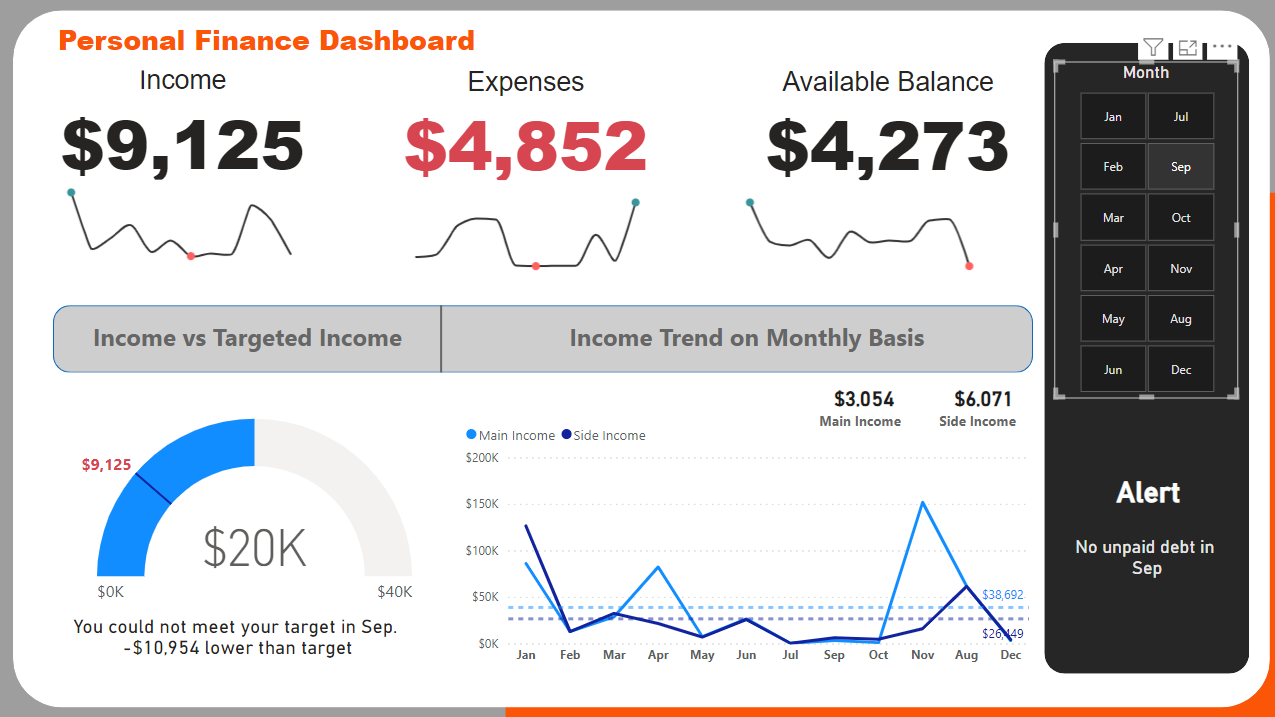

The page's visual inventory and layout, read from the dashboard file:
{"tool":"powerbi","page":{"name":"Page 1","canvas":[1280,720],"ordinal":0},"visuals":[{"type":"shape","box":[507.9,194.2,772.1,526],"z":0},{"type":"shape","box":[14.5,10.9,1257.1,697.3],"z":1000},{"type":"card","title":"Expenses","fields":{"Values":["All measures.Total Expenses"]},"box":[400.5,67.6,255.8,118.2],"z":2000},{"type":"card","title":"Available Balance","fields":{"Values":["All measures.Available Balance"]},"box":[733.5,67.6,312.5,118.2],"z":3000},{"type":"card","title":"Income","fields":{"Values":["All measures.Total Income"]},"box":[55.5,66.4,259.4,119.4],"z":4000},{"type":"PBI_CV_25997FEB_F466_44FA_B562_AC4063283C4C","fields":{"measure":["All measures.Total Income"],"axis":["Income Goal.Month"]},"box":[55.5,176.1,259.4,91.7],"z":5000},{"type":"shape","box":[1046,43.4,205.1,631],"z":6000},{"type":"textbox","box":[55,16.2,452.5,55],"z":7000},{"type":"PBI_CV_25997FEB_F466_44FA_B562_AC4063283C4C","fields":{"axis":["Income Goal.Month"],"measure":["All measures.Total Expenses"]},"box":[400.5,185.8,259.4,91.7],"z":8000},{"type":"PBI_CV_25997FEB_F466_44FA_B562_AC4063283C4C","fields":{"measure":["All measures.Available Balance"],"axis":["Income Goal.Month"]},"box":[733.5,185.8,259.4,91.7],"z":9000},{"type":"gauge","fields":{"Y":["Income Goal.Total Income Target"],"TargetValue":["All measures.Total Income"]},"box":[55.5,415,387.3,199.1],"z":10000},{"type":"slicer","title":"Month","fields":{"Values":["Income Goal.Month"]},"box":[1056.2,62.5,183.8,337.5],"z":11000},{"type":"card","fields":{"Values":["All measures.Guage Caption"]},"box":[36.2,600.8,406.6,73.6],"z":12000},{"type":"lineChart","fields":{"Y":["All measures.Main Income","All measures.Side Income"],"Category":["Income Goal.Month"]},"box":[462.1,415,573.1,259.4],"z":13000},{"type":"card","fields":{"Values":["All measures.Main Income"]},"box":[806.2,385,120,30],"z":14000},{"type":"card","fields":{"Values":["All measures.Side Income"]},"box":[926.5,384.9,119.4,30.2],"z":15000},{"type":"shape","box":[55,306.2,980,67.5],"z":16000},{"type":"textbox","box":[816.2,407.5,100,32.5],"z":17000},{"type":"textbox","box":[936.2,407.5,100,32.5],"z":18000},{"type":"textbox","box":[72.5,316.2,353.8,53.8],"z":19000},{"type":"shape","box":[367.5,306.2,151.2,67.5],"z":20000},{"type":"textbox","box":[557.5,316.2,382.5,53.8],"z":21000},{"type":"card","fields":{"Values":["All measures.Debt Summary"]},"box":[1065,478.8,168.8,158.8],"z":22000},{"type":"textbox","box":[1107.5,471.2,86.2,43.8],"z":23000}]}

Visuals, with their boxes in screenshot pixels (x1, y1, x2, y2), scaled from the page's 1280x720 canvas onto the 1275x717 screenshot:
shape: select_region(506, 193, 1274, 716)
shape: select_region(14, 11, 1267, 705)
"Expenses" card: select_region(399, 67, 654, 185)
"Available Balance" card: select_region(731, 67, 1042, 185)
"Income" card: select_region(55, 66, 314, 185)
PBI_CV_25997FEB_F466_44FA_B562_AC4063283C4C - All measures.Total Income x Income Goal.Month: select_region(55, 175, 314, 267)
shape: select_region(1042, 43, 1246, 672)
textbox: select_region(55, 16, 506, 71)
PBI_CV_25997FEB_F466_44FA_B562_AC4063283C4C - Income Goal.Month x All measures.Total Expenses: select_region(399, 185, 657, 276)
PBI_CV_25997FEB_F466_44FA_B562_AC4063283C4C - All measures.Available Balance x Income Goal.Month: select_region(731, 185, 989, 276)
gauge - Income Goal.Total Income Target x All measures.Total Income: select_region(55, 413, 441, 612)
"Month" slicer: select_region(1052, 62, 1235, 398)
card - All measures.Guage Caption: select_region(36, 598, 441, 672)
lineChart - All measures.Main Income x All measures.Side Income: select_region(460, 413, 1031, 672)
card - All measures.Main Income: select_region(803, 383, 923, 413)
card - All measures.Side Income: select_region(923, 383, 1042, 413)
shape: select_region(55, 305, 1031, 372)
textbox: select_region(813, 406, 913, 438)
textbox: select_region(933, 406, 1032, 438)
textbox: select_region(72, 315, 425, 368)
shape: select_region(366, 305, 517, 372)
textbox: select_region(555, 315, 936, 368)
card - All measures.Debt Summary: select_region(1061, 477, 1229, 635)
textbox: select_region(1103, 469, 1189, 513)
